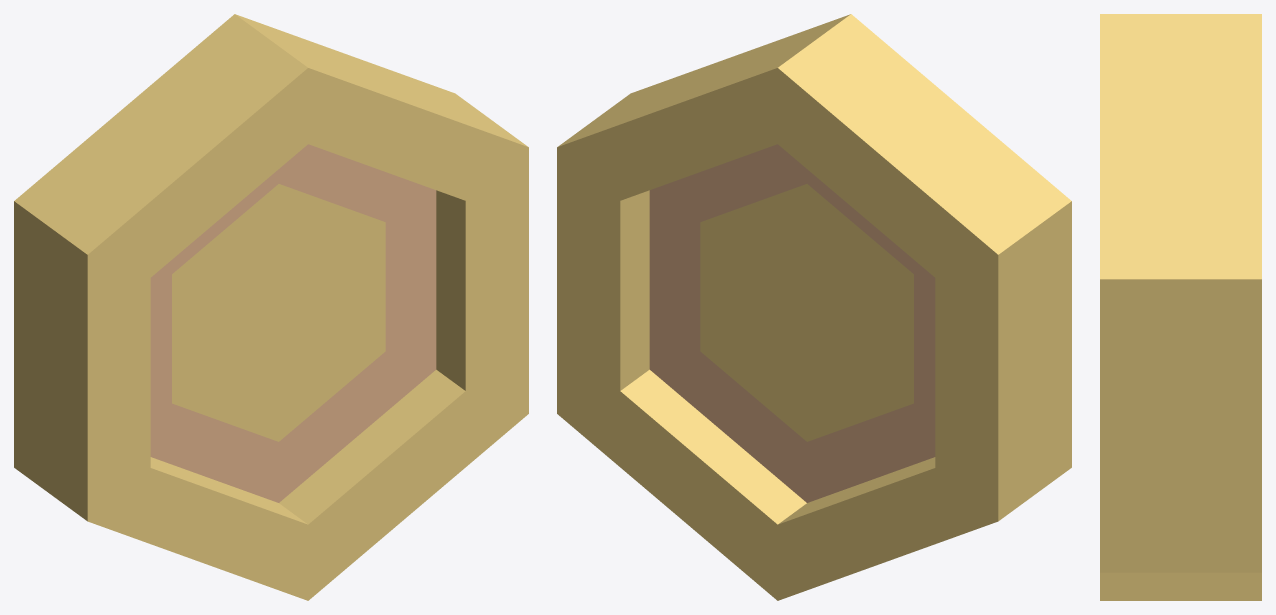
The picture shows the model from 3 angles, left to right: view 1: azimuth 30°, elevation 25°; view 2: azimuth 150°, elevation 25°; view 3: azimuth 270°, elevation 25°; orthographic projection. The views are drawn at different scales.
Visible parts, largest first — view 1: coinGold; view 2: coinGold; view 3: coinGold.
Part boxes in pixels (box(x1,y1,x2,y2)): coinGold: box(14, 14, 528, 600); coinGold: box(557, 14, 1071, 600); coinGold: box(1100, 14, 1261, 600).
Size of the model in its own units: 0.3464 by 0.4 by 0.1.
